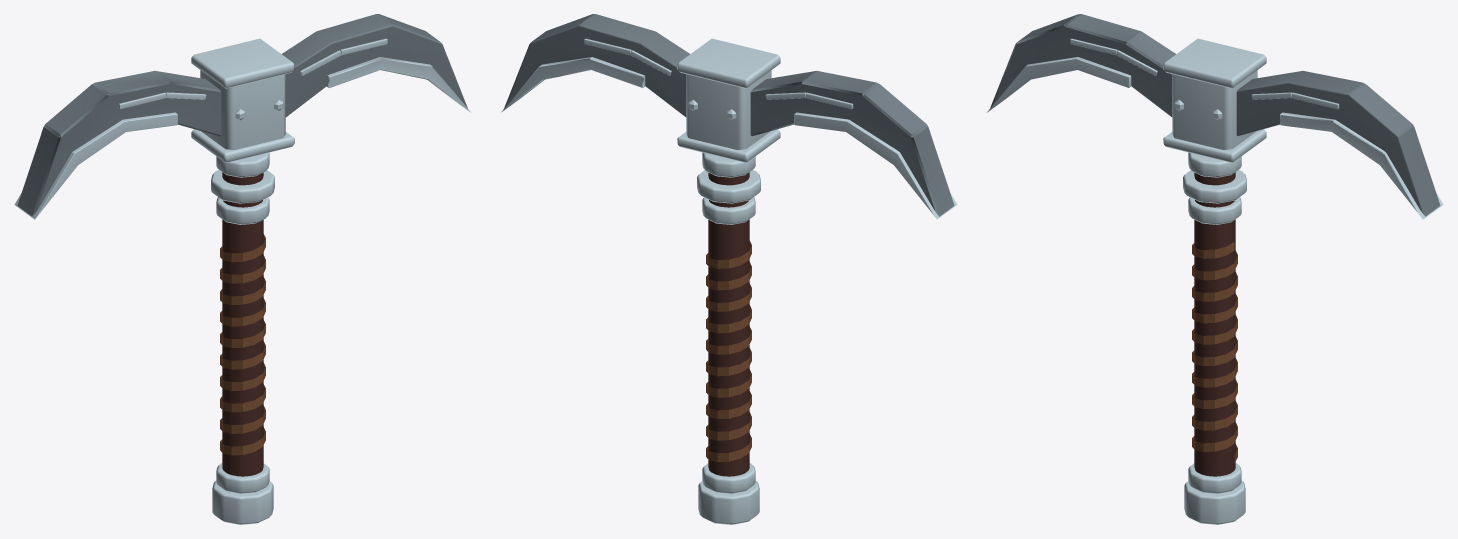
File: aco.glb
3 renders of one model, left to right at view 1: azimuth 30°, elevation 25°; view 2: azimuth 150°, elevation 25°; view 3: azimuth 330°, elevation 25°, orthographic.
Visible parts, largest first — view 1: aco__Steel_edge.001, aco__Iron.001, aco__Leather.001, aco__Leather_wrap.001; view 2: aco__Steel_edge.001, aco__Iron.001, aco__Leather.001, aco__Leather_wrap.001; view 3: aco__Steel_edge.001, aco__Iron.001, aco__Leather.001, aco__Leather_wrap.001.
Boxes of the visible parts, x1,y1,x2,y2 form: aco__Steel_edge.001: (14,38,470,524); aco__Iron.001: (17,14,467,216); aco__Leather.001: (222,172,263,476); aco__Leather_wrap.001: (220,234,265,455); aco__Steel_edge.001: (501,38,957,524); aco__Iron.001: (504,14,954,216); aco__Leather.001: (708,172,749,476); aco__Leather_wrap.001: (706,241,751,461); aco__Steel_edge.001: (987,38,1443,524); aco__Iron.001: (990,14,1440,216); aco__Leather.001: (1194,172,1235,476); aco__Leather_wrap.001: (1192,242,1237,463).
Bounding box in the file's own units: 3.19 × 3.21 × 0.4633.
